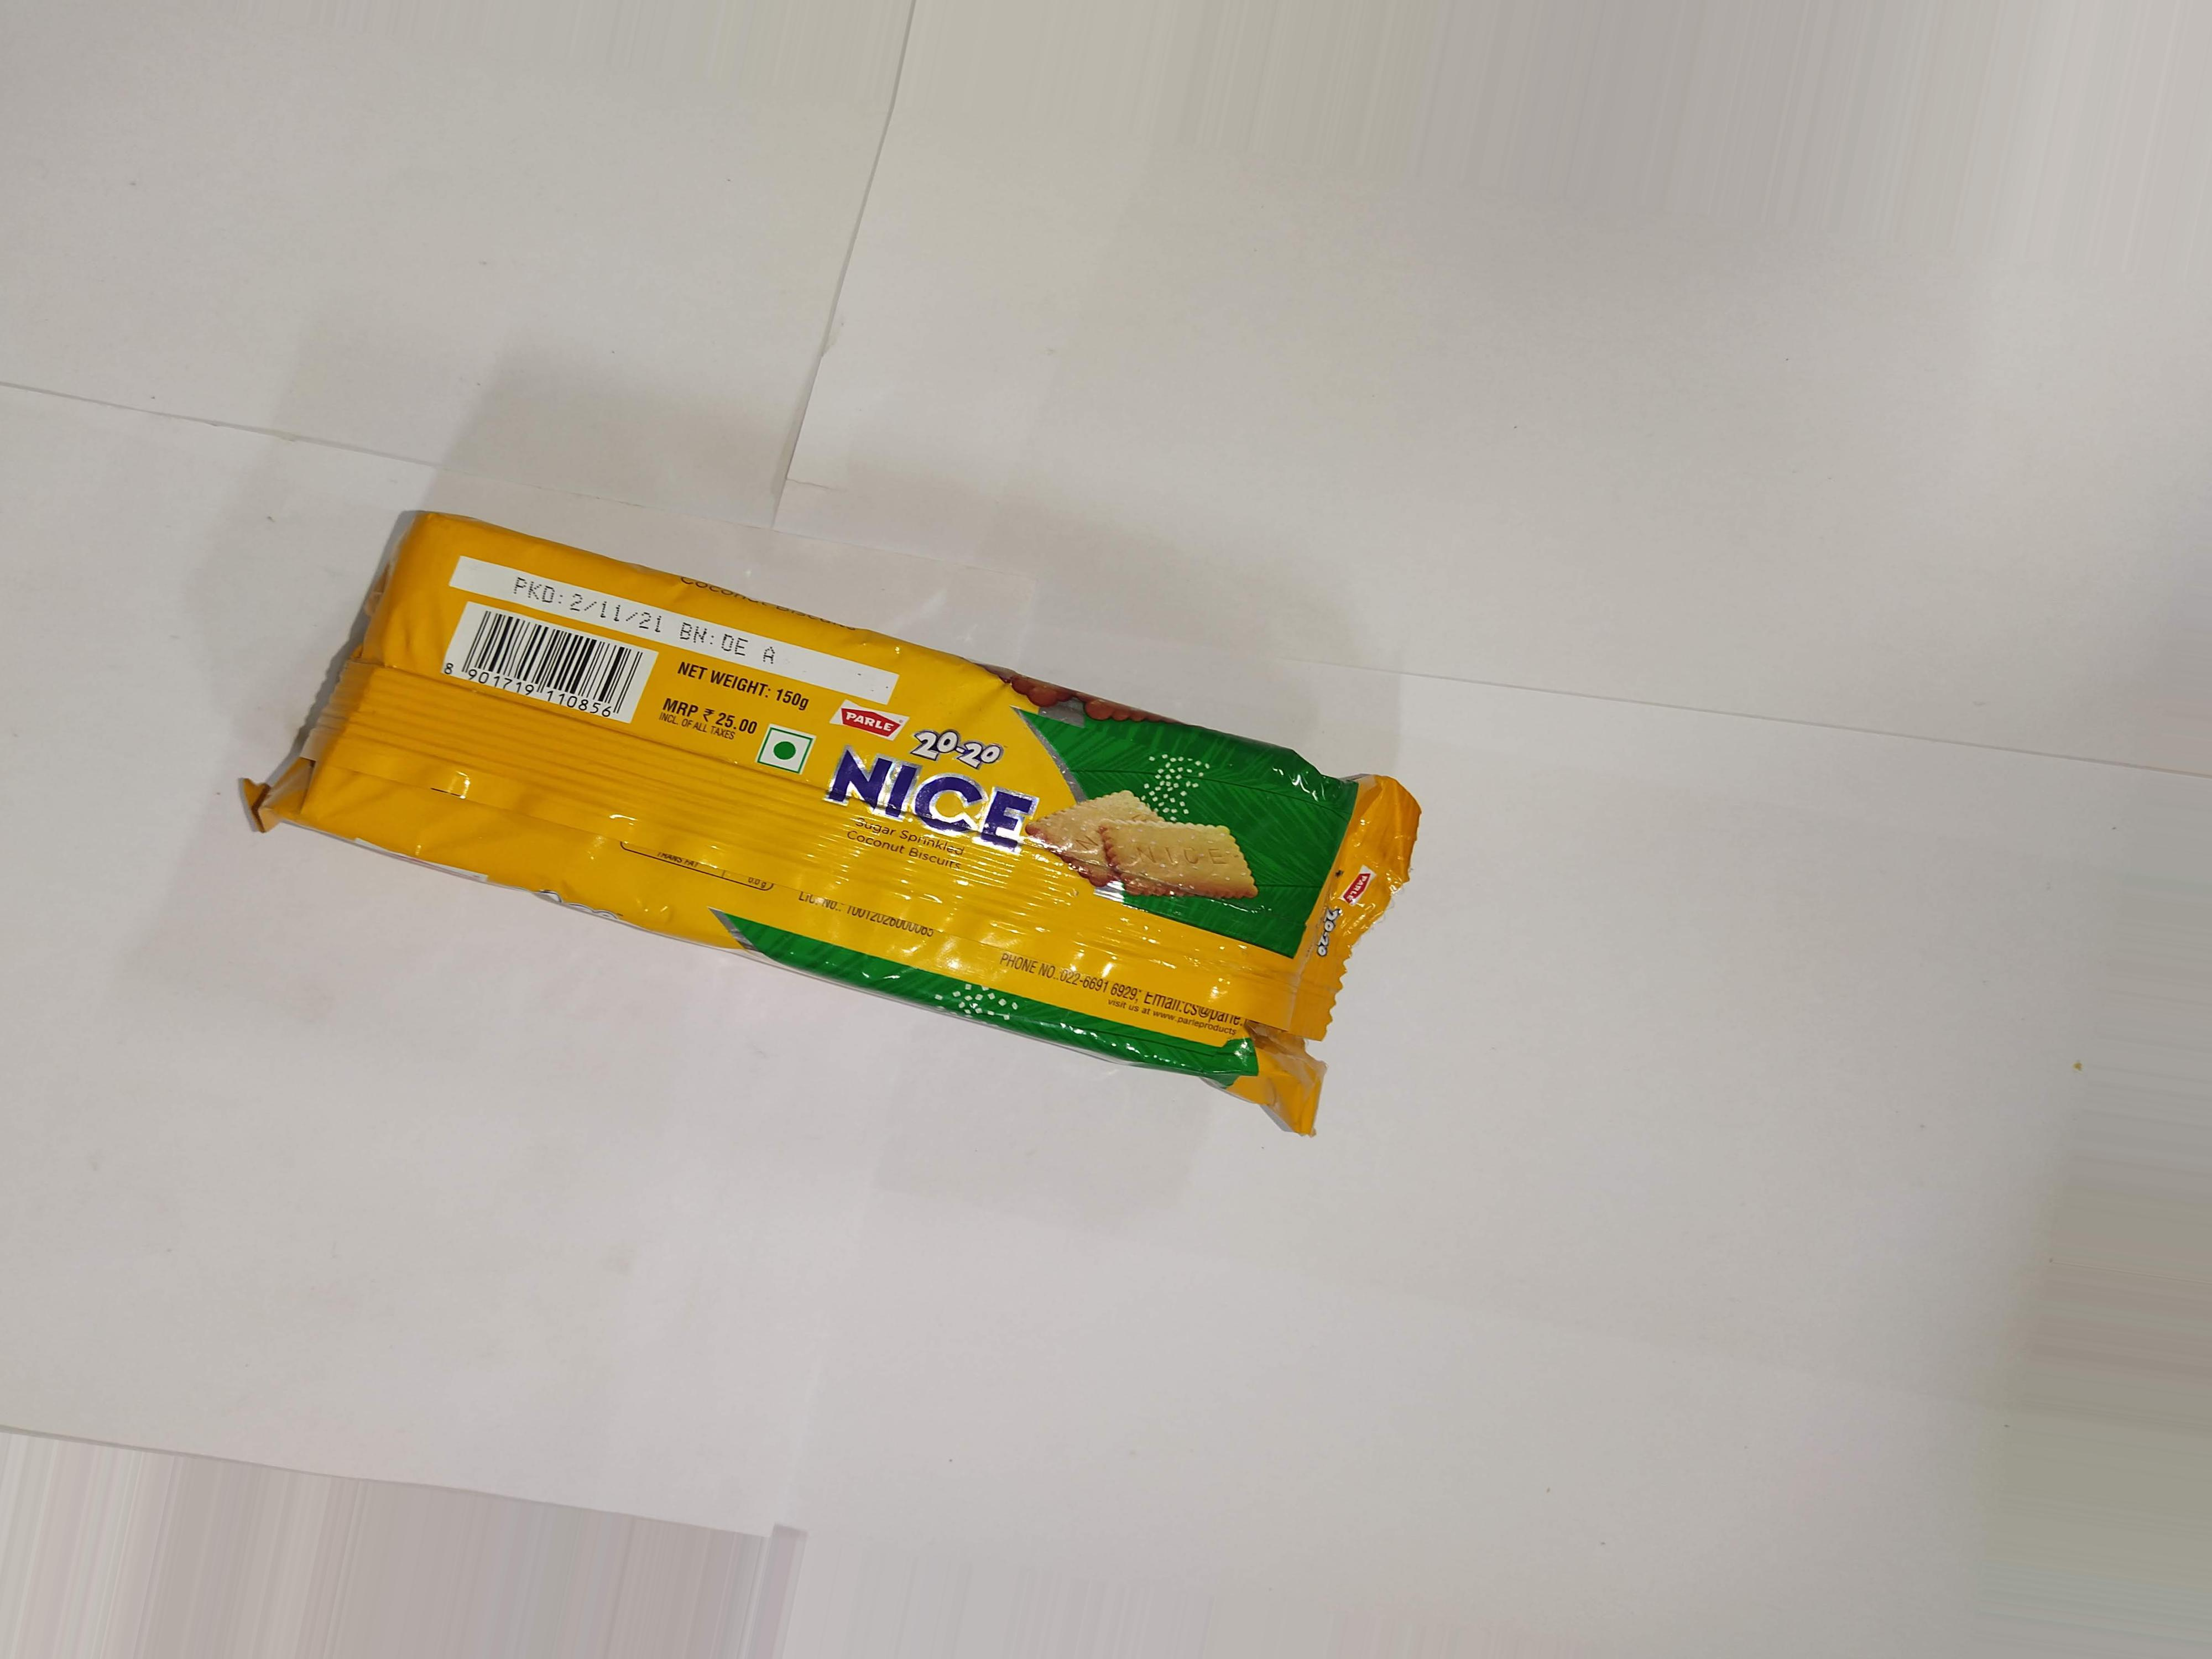Bar_code: (423, 599, 678, 734)
Item: (167, 451, 1463, 1195)
